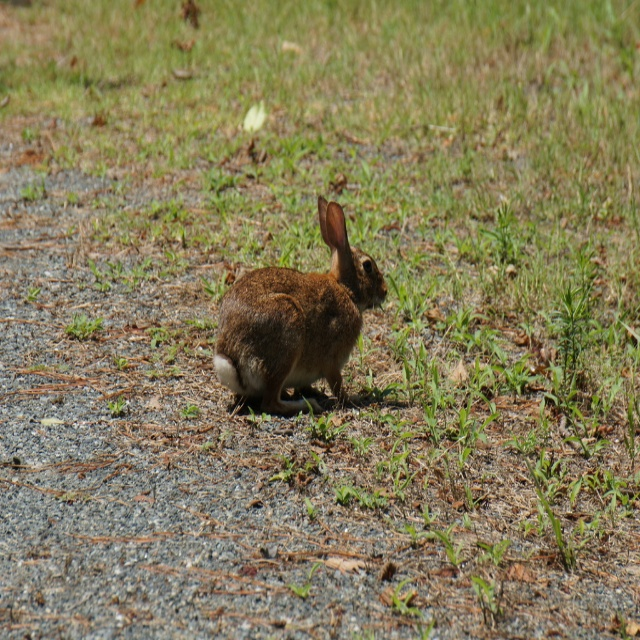Rabbit: (210, 194, 389, 420)
